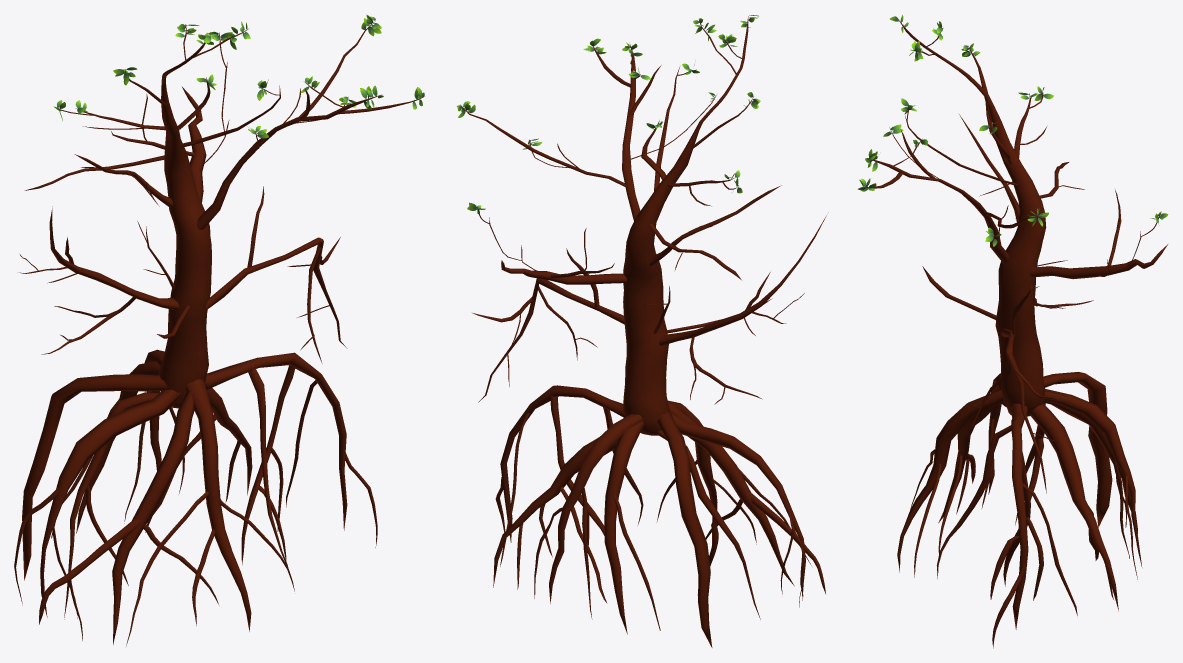
The model's file is Mangrove_Normal_03 1.fbx.
The picture shows the model from 3 angles, left to right: view 1: azimuth 30°, elevation 25°; view 2: azimuth 150°, elevation 25°; view 3: azimuth 270°, elevation 25°; orthographic projection. The views are drawn at different scales.
Visible parts, largest first — view 1: Tree, Leaf_main1269; view 2: Tree, Leaf_main1269; view 3: Tree, Leaf_main1269.
Part boxes in pixels (<box>): Tree: <box>14,22,423,646</box>; Leaf_main1269: <box>54,14,424,138</box>; Tree: <box>460,16,828,647</box>; Leaf_main1269: <box>456,15,760,214</box>; Tree: <box>864,20,1167,648</box>; Leaf_main1269: <box>858,15,1168,246</box>.
Bounding box in the file's own units: 629 × 981 × 510.
